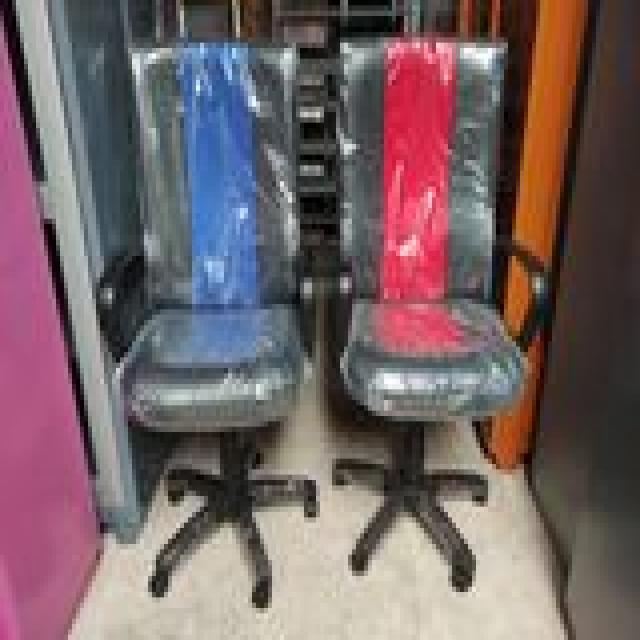others: (84, 21, 548, 608)
